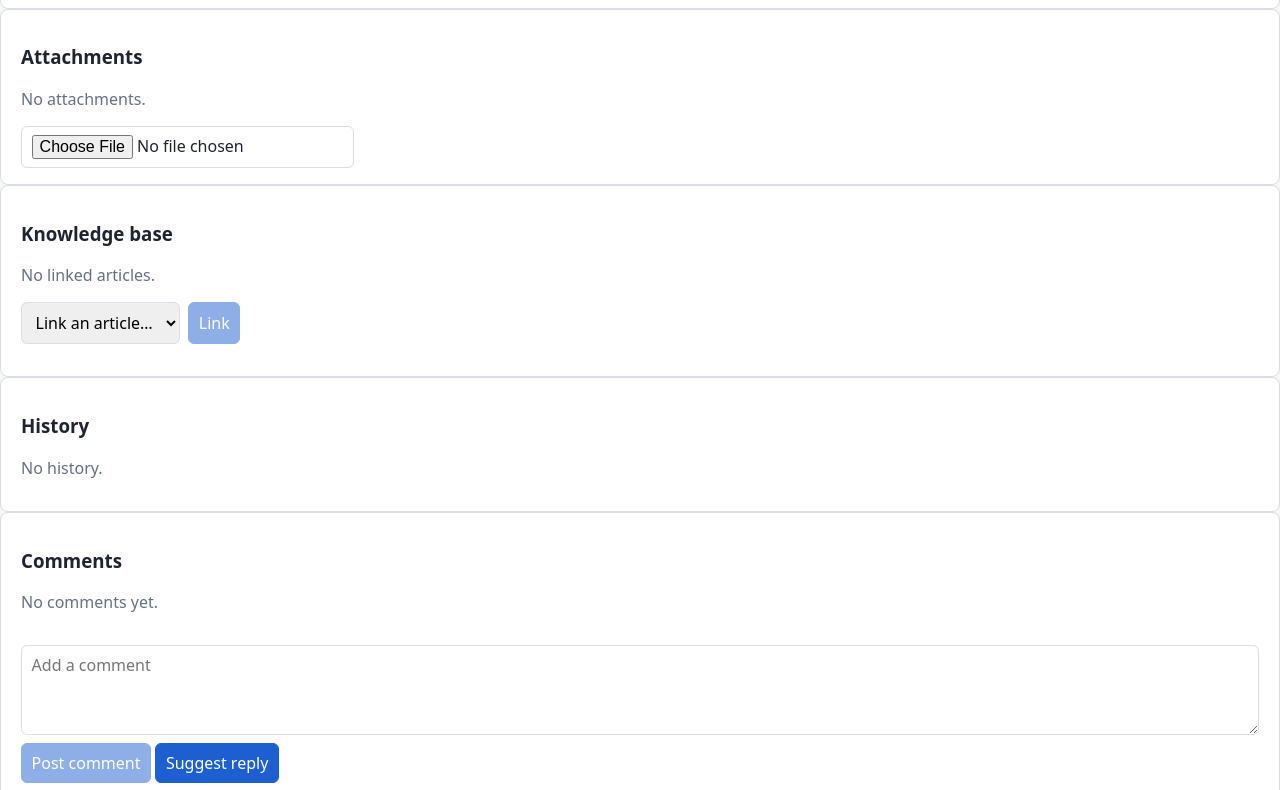
Test: suggested reply › drafts a reply into the comment box when AI is on
(page scrolled)
Click the button "Suggest reply" at (217, 763), box x1=155 y1=743 x2=279 y2=783
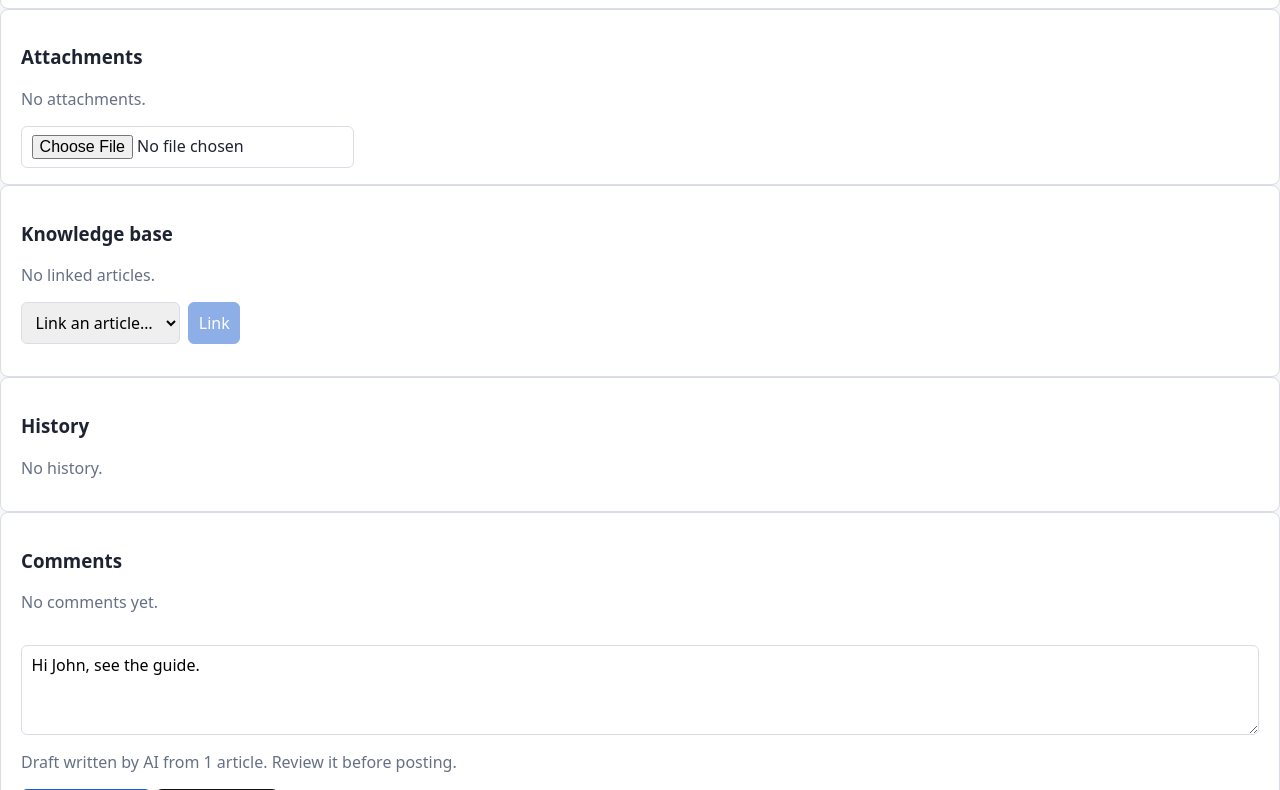
Now the text box showing "Hi John, see the guide." is shown, box x1=21 y1=645 x2=1259 y2=735
Now the text "Draft written by AI from 1 article. Review it" is shown, box x1=21 y1=751 x2=457 y2=773
